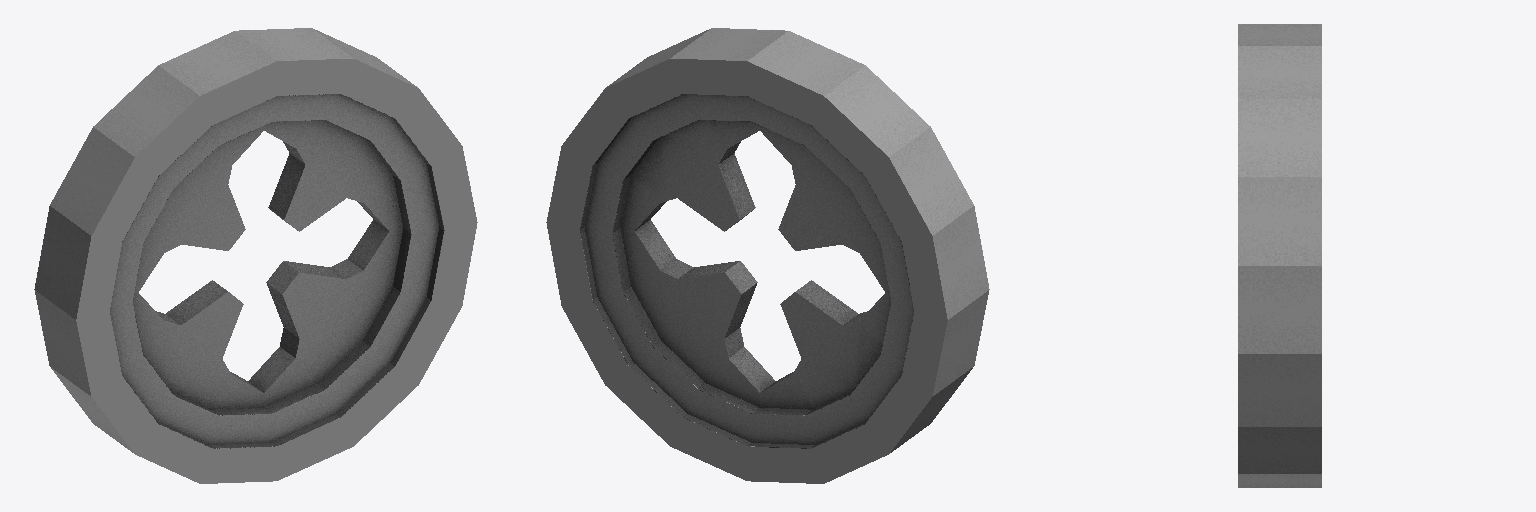
The picture shows the model from 3 angles: view 1: azimuth 30°, elevation 25°; view 2: azimuth 150°, elevation 25°; view 3: azimuth 270°, elevation 25°; orthographic projection.
Visible parts, largest first — view 1: cat_detail1; view 2: cat_detail1; view 3: cat_detail1.
Boxes of the visible parts, x1,y1,x2,y2 form: cat_detail1: [34, 28, 477, 483]; cat_detail1: [546, 28, 989, 483]; cat_detail1: [1238, 24, 1321, 487].
Bounding box in the file's own units: 2.02 × 2.02 × 0.364.
Materials: 1 (1 with a texture image).